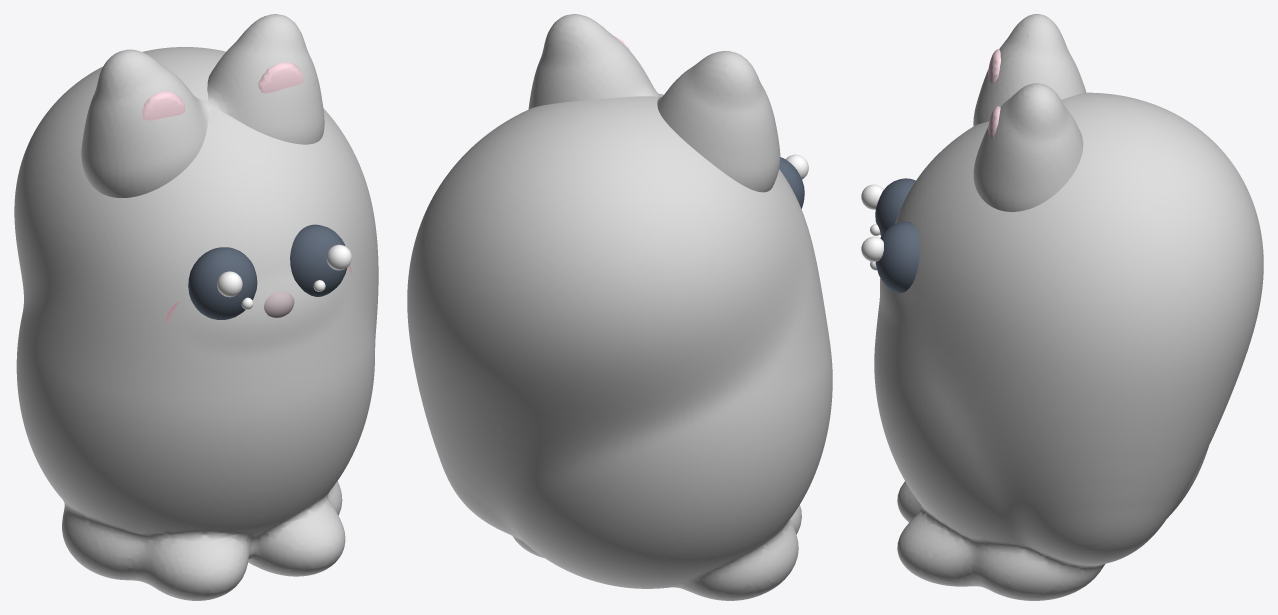
The model's file is fox_beast.glb.
3 views of the same model, side by side, from view 1: azimuth 30°, elevation 25°; view 2: azimuth 150°, elevation 25°; view 3: azimuth 270°, elevation 25° (orthographic). The views are drawn at different scales.
Parts seen in each view (by area): view 1: FoxBody; view 2: FoxBody; view 3: FoxBody.
Boxes of the visible parts, bbox=[...] form: FoxBody: bbox=[14, 14, 378, 600]; FoxBody: bbox=[407, 14, 832, 600]; FoxBody: bbox=[861, 14, 1263, 600].
Size of the model in its own units: 0.8986 by 1.31 by 0.9434.
